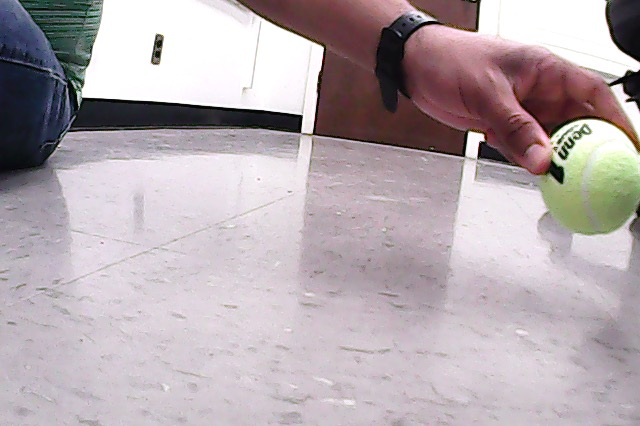ball: (541, 119, 640, 235)
